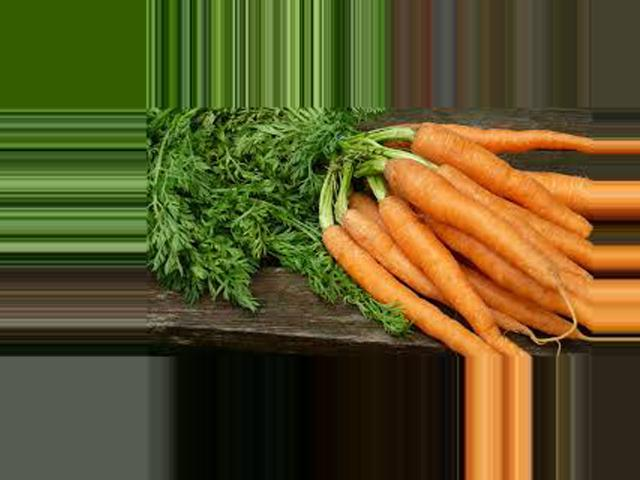carrot: (404, 120, 595, 242)
